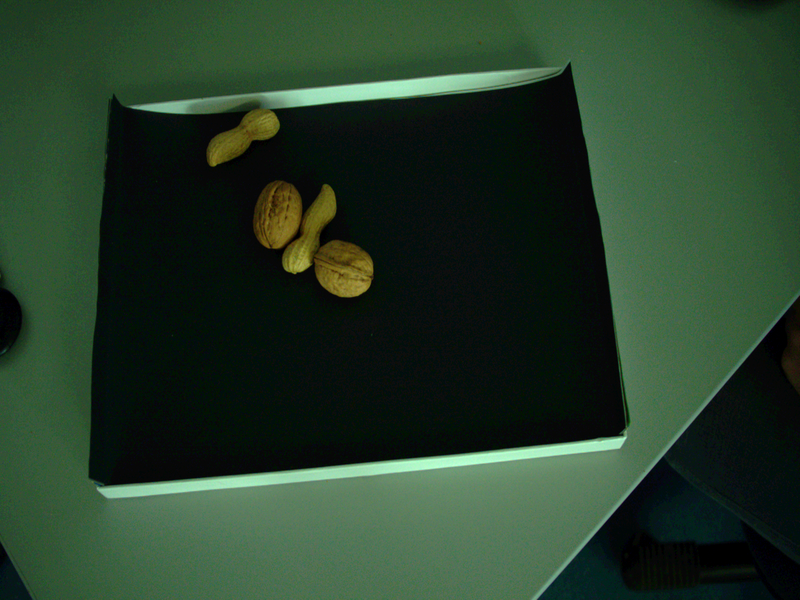walnut: (245, 174, 306, 249), (311, 239, 379, 300)
